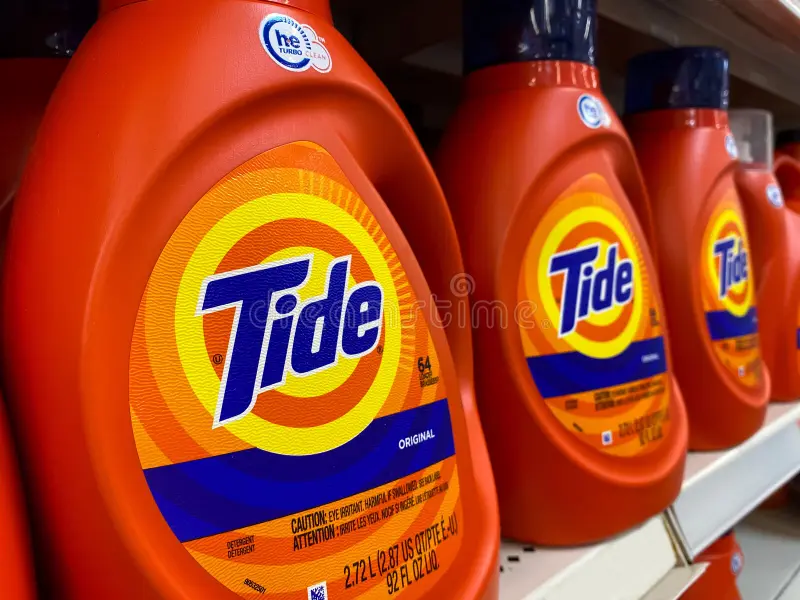detergent: (100, 100, 700, 500)
